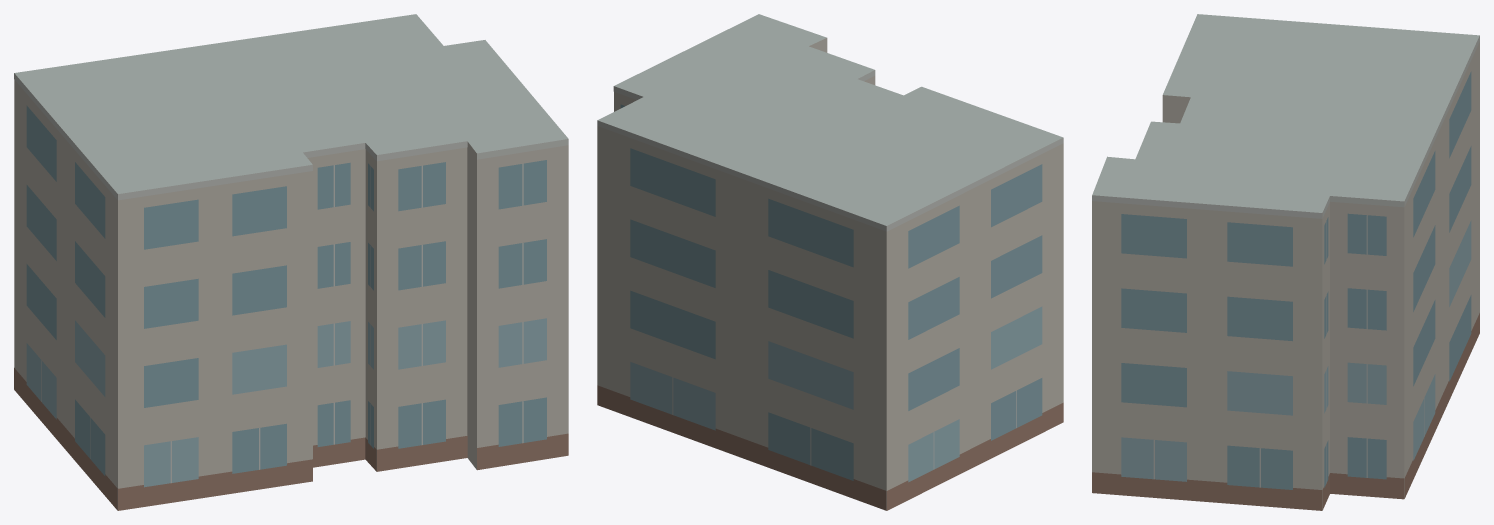
The model's file is survey-upis-32704920.glb.
3 views of the same model, side by side, from view 1: azimuth 30°, elevation 25°; view 2: azimuth 150°, elevation 25°; view 3: azimuth 270°, elevation 25° (orthographic). The views are drawn at different scales.
Parts seen in each view (by area): view 1: survey-upis-32704920.tmp; view 2: survey-upis-32704920.tmp; view 3: survey-upis-32704920.tmp.
Boxes of the visible parts, bbox=[...] form: survey-upis-32704920.tmp: bbox=[14, 14, 568, 510]; survey-upis-32704920.tmp: bbox=[597, 14, 1063, 510]; survey-upis-32704920.tmp: bbox=[1092, 14, 1479, 510].
Bounding box in the file's own units: 17.78 × 12.4 × 14.64.
